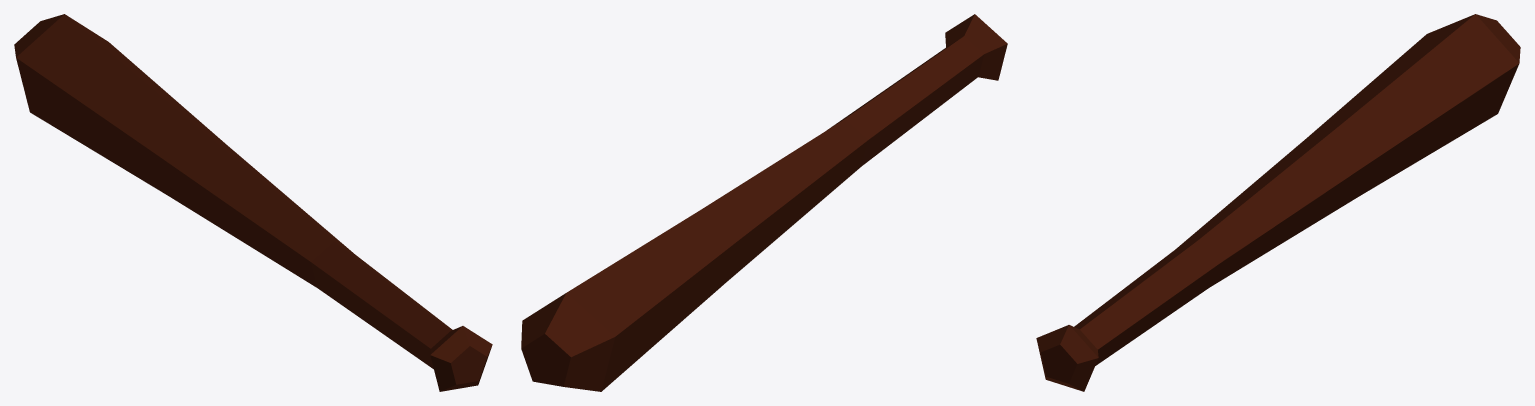
Rendered from Bat.glb.
3 renders of one model, left to right at view 1: azimuth 30°, elevation 25°; view 2: azimuth 150°, elevation 25°; view 3: azimuth 330°, elevation 25°, orthographic.
Parts seen in each view (by area): view 1: Bat; view 2: Bat; view 3: Bat.
Boxes of the visible parts, box(x1,y1,x2,y2) form: Bat: box(14, 14, 492, 391); Bat: box(521, 14, 1007, 391); Bat: box(1036, 14, 1520, 391).
Size of the model in its own units: 11.96 by 11.63 by 96.95.
